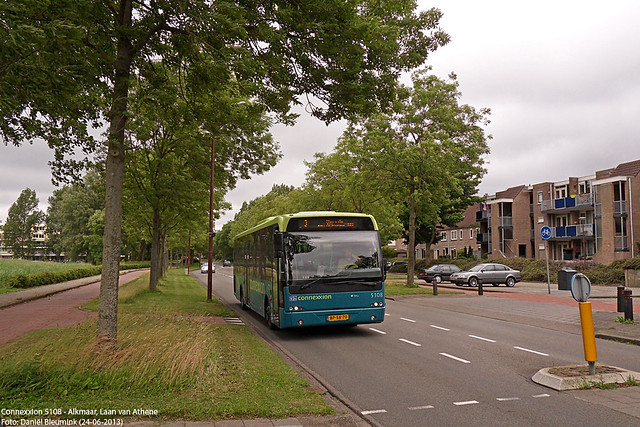bus: (234, 211, 385, 330)
car: (450, 263, 521, 288), (418, 263, 467, 284), (200, 261, 216, 274), (223, 259, 231, 267)
